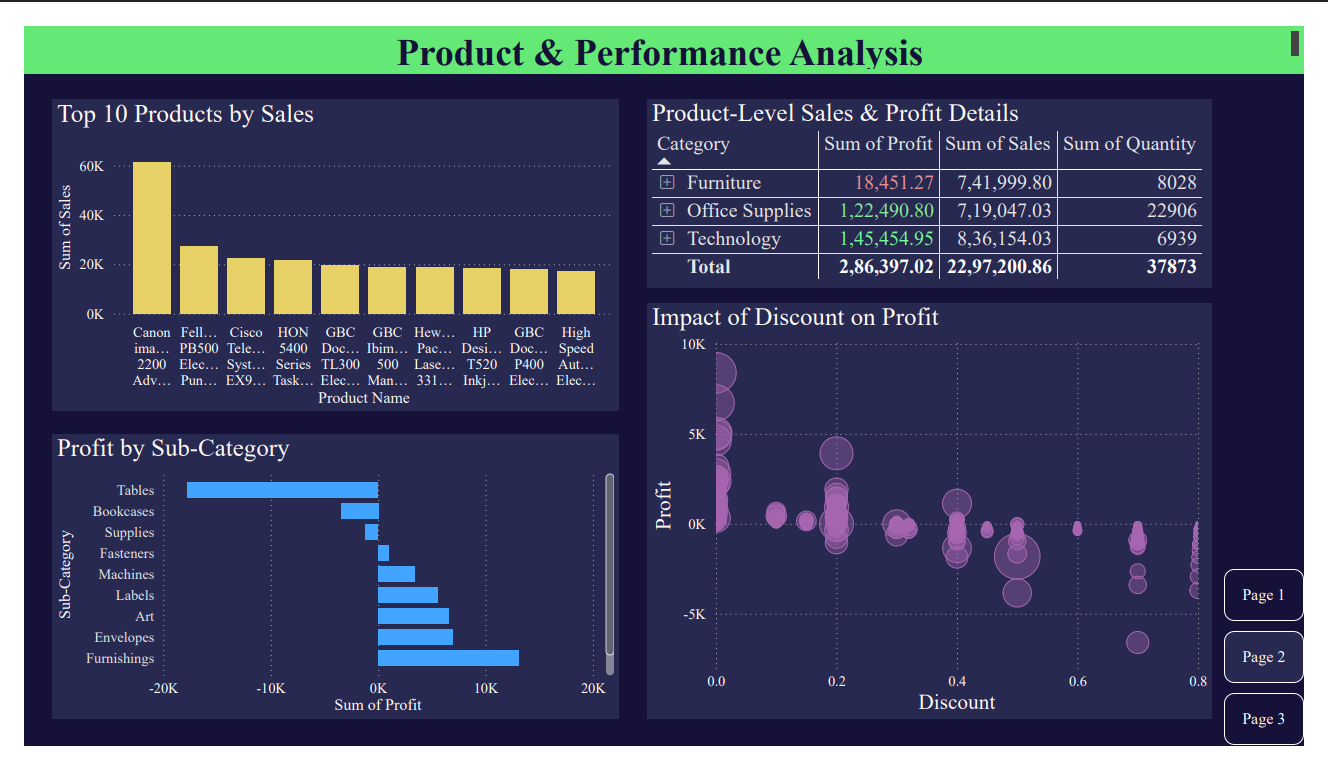

The page's visual inventory and layout, read from the dashboard file:
{"tool":"powerbi","page":{"name":"Page 2","canvas":[1280,720],"ordinal":1},"visuals":[{"type":"clusteredColumnChart","title":"Top 10 Products by Sales","fields":{"Category":["Orders.Product Name"],"Y":["Sum(Orders.Sales)"]},"box":[28.3,73.3,566.7,311.7],"z":0},{"type":"clusteredBarChart","title":"Profit by Sub-Category","fields":{"Category":["Orders.Sub-Category"],"Y":["Sum(Orders.Profit)"]},"box":[27.5,407.5,567.5,285],"z":1000},{"type":"scatterChart","title":"Impact of Discount on Profit","fields":{"X":["Orders.Discount"],"Y":["Orders.Profit"],"Size":["Sum(Orders.Sales)"]},"box":[623.3,276.7,565,416.7],"z":2000},{"type":"pivotTable","title":"Product-Level Sales & Profit Details","fields":{"Rows":["Orders.Category","Orders.Sub-Category","Orders.Product Name"],"Values":["Sum(Orders.Profit)","Sum(Orders.Sales)","Sum(Orders.Quantity)"]},"box":[623.3,73.3,565,188.3],"z":3000},{"type":"actionButton","box":[27.5,8.8,45,40],"z":4000},{"type":"textbox","box":[0,0,1280,48.3],"z":5000},{"type":"pageNavigator","box":[1200,543.3,80,176.7],"z":6000}]}

Visuals, with their boxes in screenshot pixels (x1, y1, x2, y2), scaled from the page's 1280x720 canvas onto the 1328x770 screenshot:
"Top 10 Products by Sales" clusteredColumnChart: 29/78/617/412
"Profit by Sub-Category" clusteredBarChart: 29/436/617/741
"Impact of Discount on Profit" scatterChart: 647/296/1233/742
"Product-Level Sales & Profit Details" pivotTable: 647/78/1233/280
actionButton: 29/9/75/52
textbox: 0/0/1327/52
pageNavigator: 1245/581/1327/769
